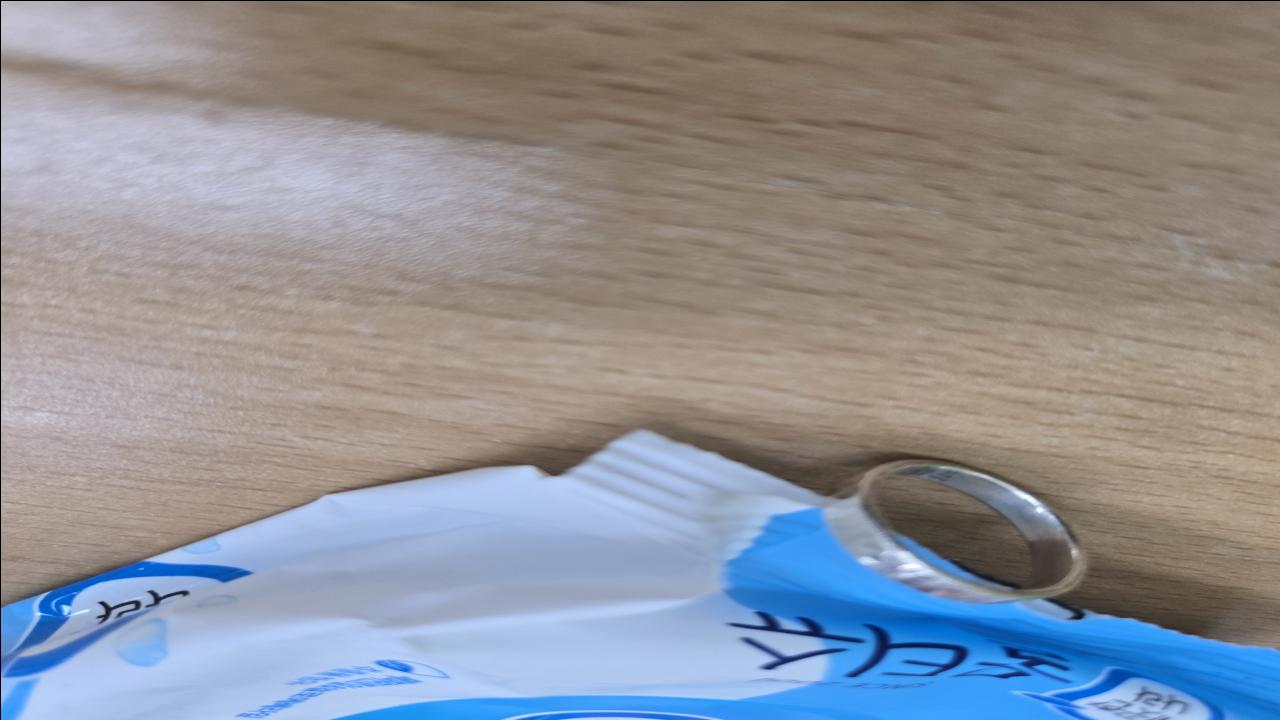ring: (818, 454, 1091, 602)
